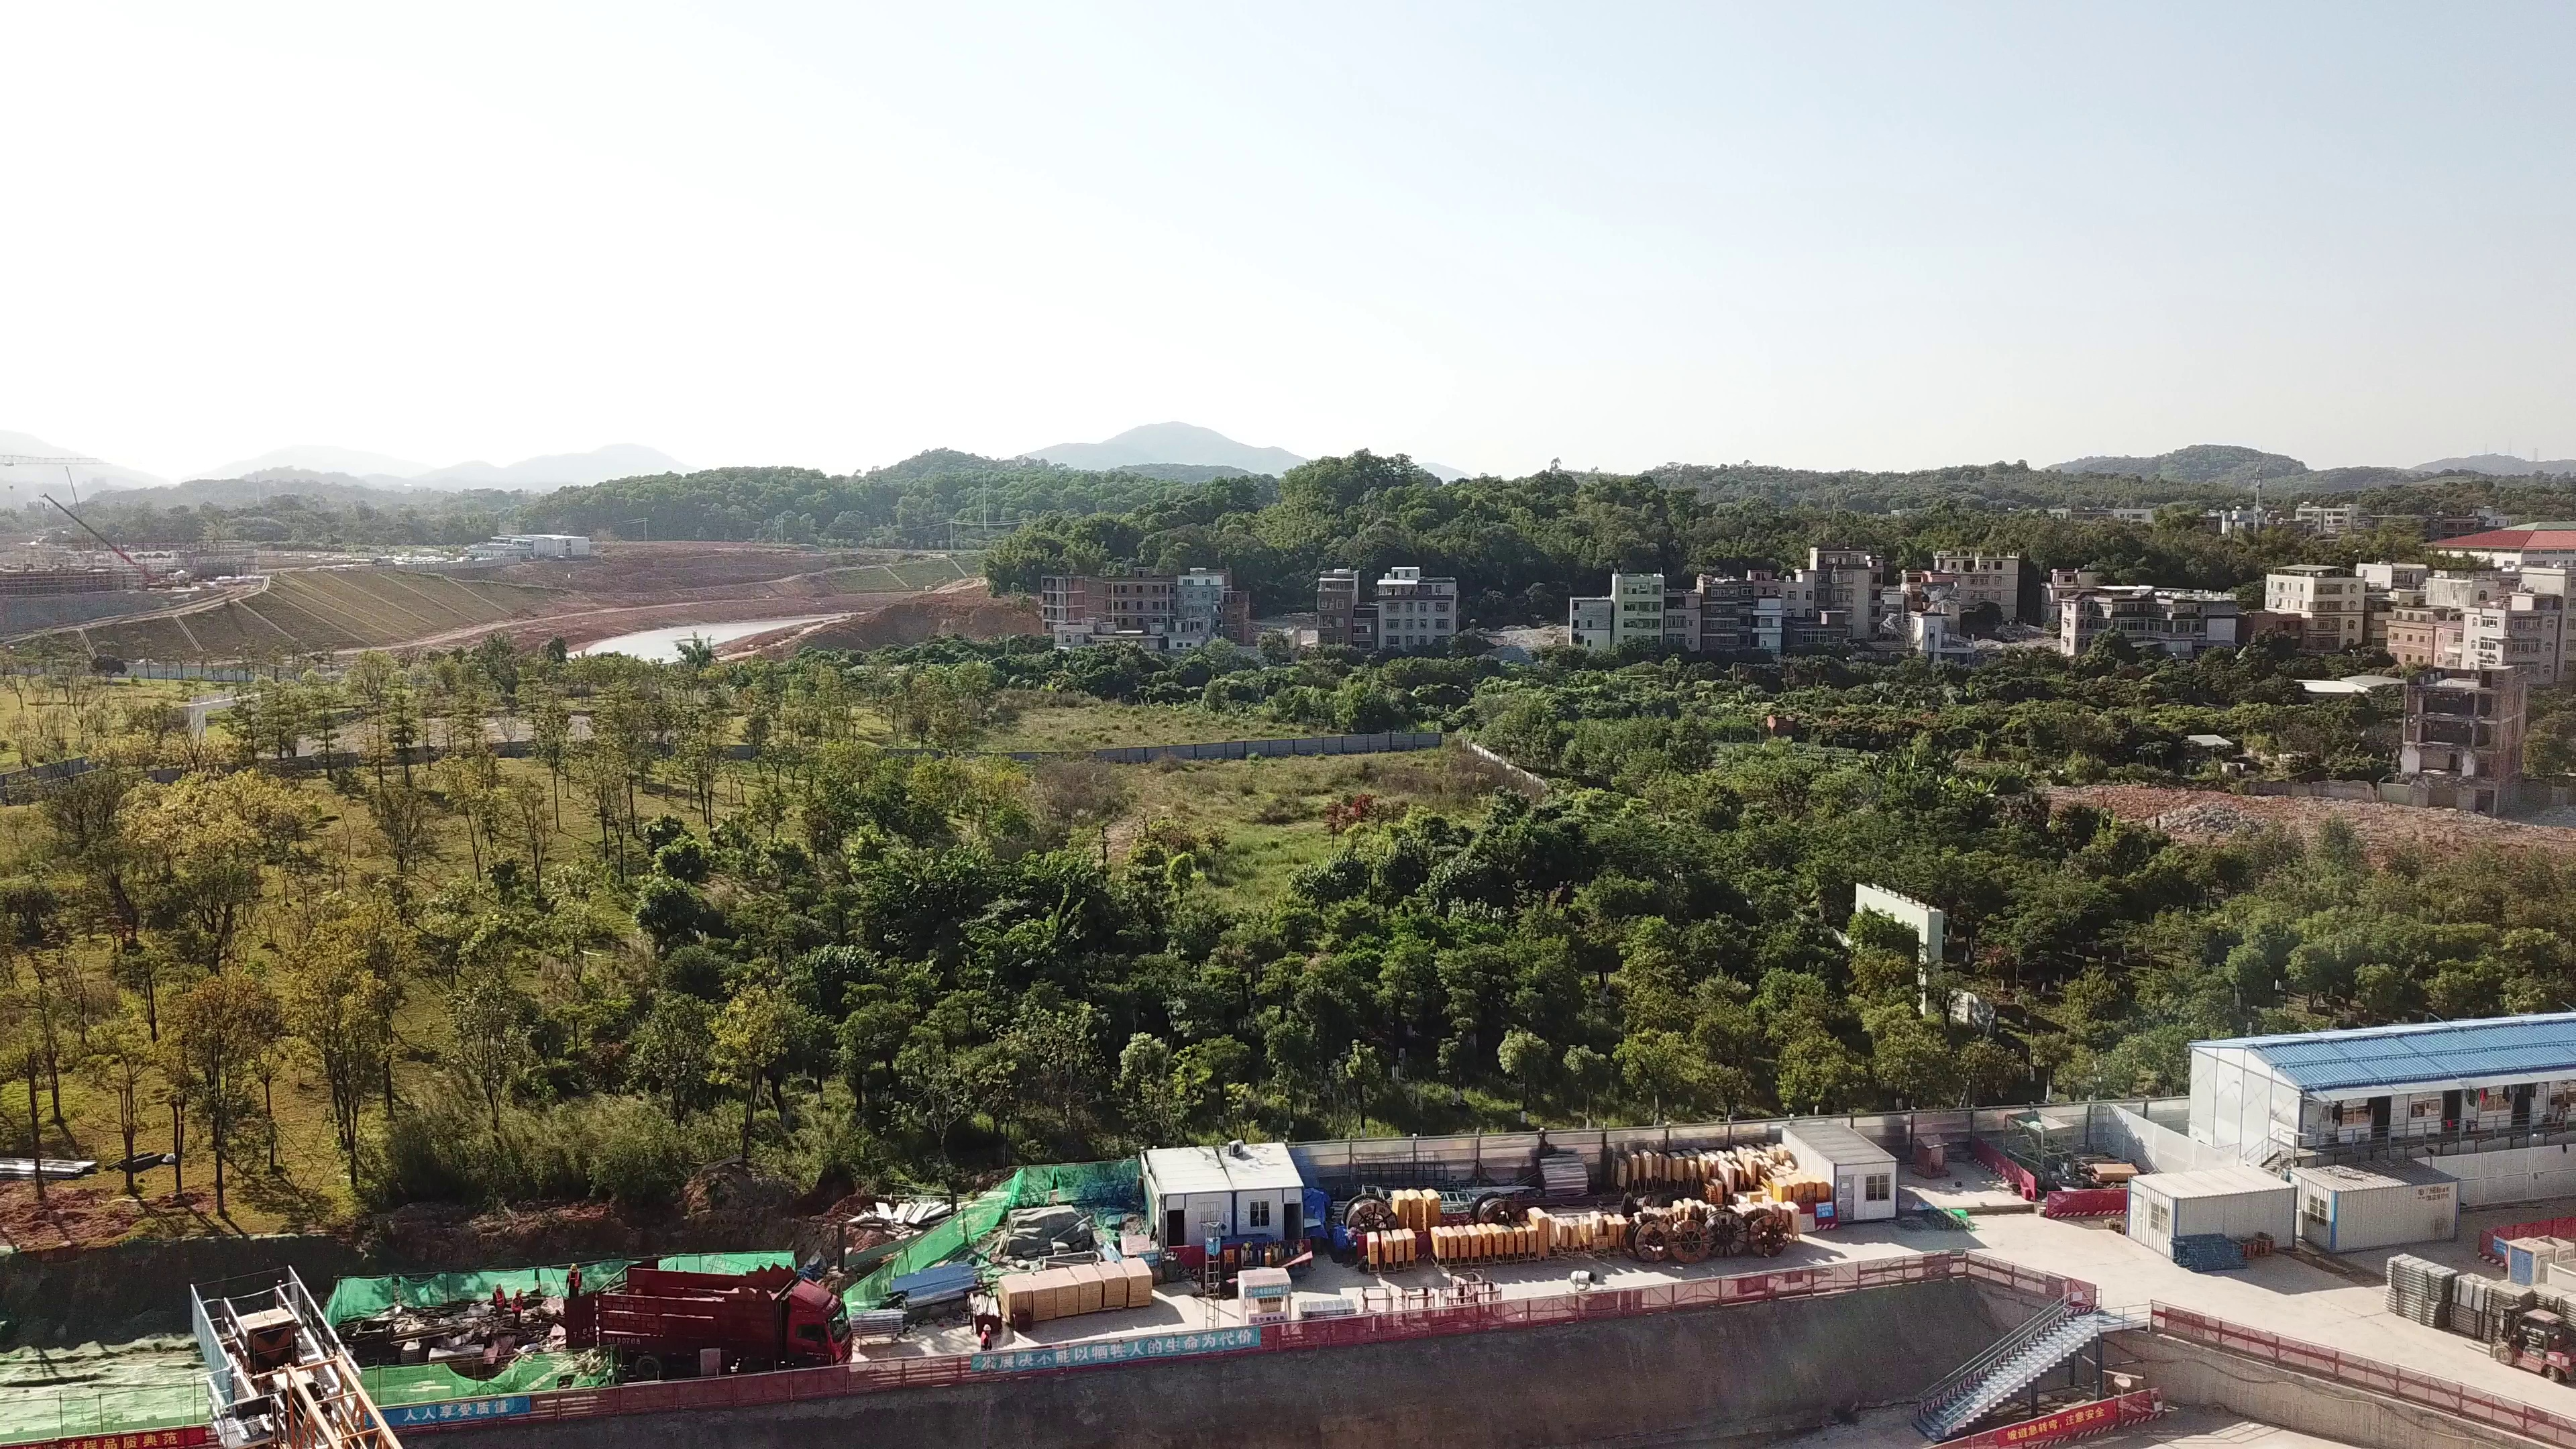fence: (1290, 1097, 2073, 1170), (1289, 1279, 2029, 1348)
helmet: (983, 1324, 990, 1332), (495, 1281, 502, 1290), (515, 1287, 523, 1295), (570, 1264, 576, 1270)
person: (566, 1255, 587, 1303), (977, 1315, 997, 1358), (486, 1283, 507, 1316), (508, 1285, 524, 1328)
scaffold: (2374, 1257, 2491, 1340), (852, 1311, 913, 1338), (964, 1293, 998, 1316)
slogan: (1009, 1328, 1257, 1373), (2001, 1397, 2114, 1437), (396, 1395, 528, 1428)
vest: (490, 1291, 504, 1309), (979, 1333, 990, 1348), (511, 1297, 524, 1312), (566, 1273, 580, 1286)
wood: (999, 1265, 1156, 1317)
